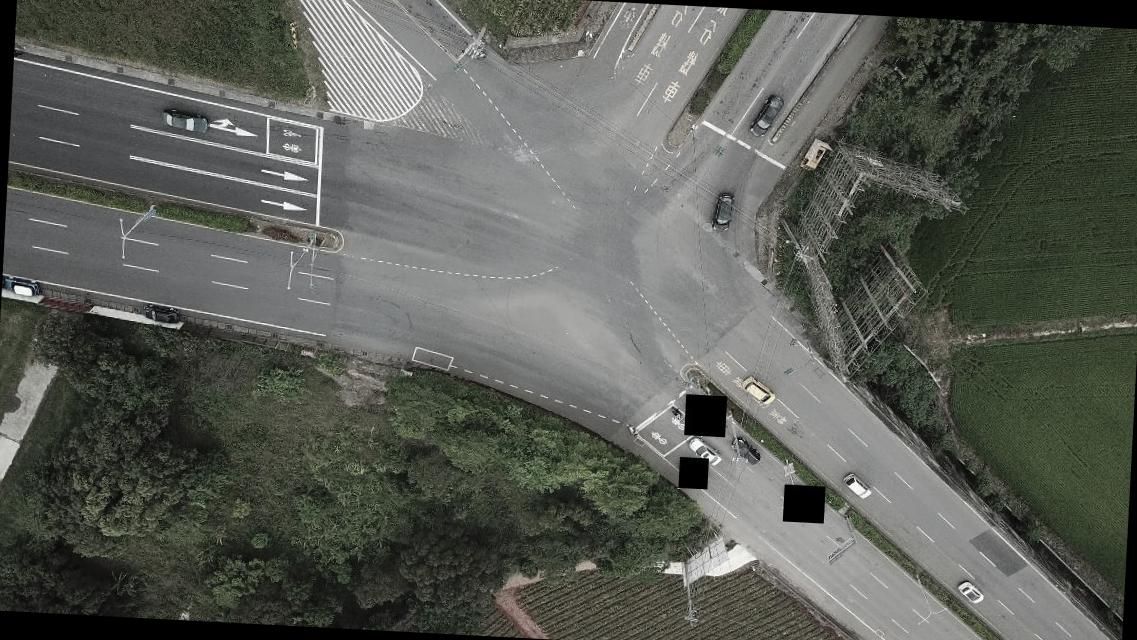vehicle: (750, 94, 783, 138), (159, 107, 210, 134), (686, 436, 723, 468), (711, 192, 737, 234), (741, 377, 776, 405), (729, 438, 761, 467), (141, 304, 181, 326), (2, 276, 40, 298), (800, 141, 826, 172), (842, 472, 870, 499), (956, 581, 984, 605)
